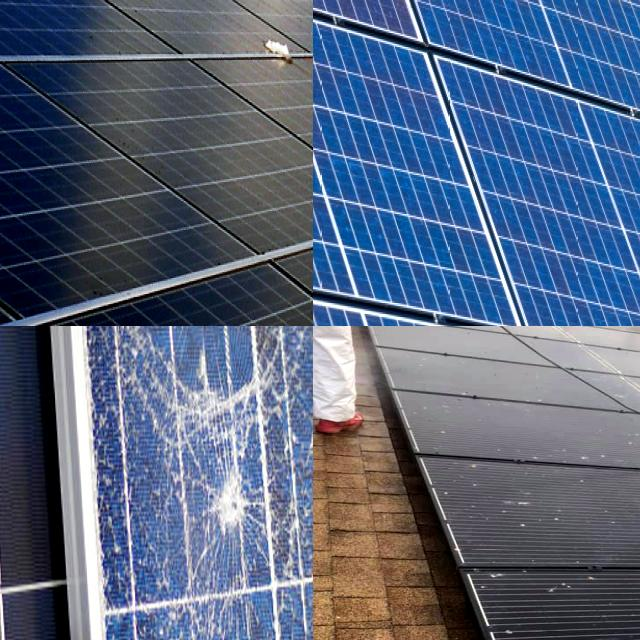bird: (427, 452, 572, 548)
crack: (313, 0, 640, 326)
hotspot: (143, 326, 290, 410), (172, 457, 285, 556)
panel: (101, 0, 188, 53), (149, 0, 244, 47), (0, 0, 92, 45), (0, 0, 109, 35), (232, 0, 313, 39), (253, 20, 302, 70), (257, 0, 313, 27)
